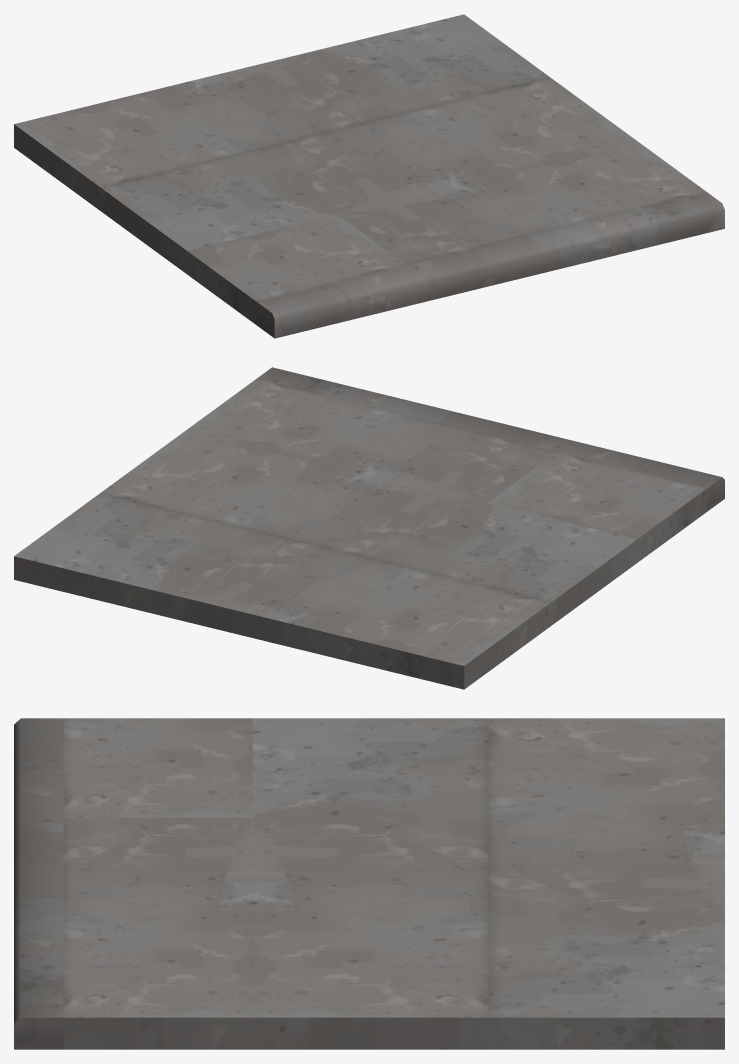
The model's file is Sidewalk_Straight_3m.gltf.
The picture shows the model from 3 angles, top to bottom: view 1: azimuth 30°, elevation 25°; view 2: azimuth 150°, elevation 25°; view 3: azimuth 270°, elevation 25°; orthographic projection. The views are drawn at different scales.
Parts seen in each view (by area): view 1: Sidewalk_Straight_3m; view 2: Sidewalk_Straight_3m; view 3: Sidewalk_Straight_3m.
Boxes of the visible parts, x1,y1,x2,y2 form: Sidewalk_Straight_3m: (14, 14, 724, 338); Sidewalk_Straight_3m: (14, 367, 724, 689); Sidewalk_Straight_3m: (14, 718, 724, 1049).
Bounding box in the file's own units: 3 × 0.15 × 3.01.
Materials: 1 (1 with a texture image).
